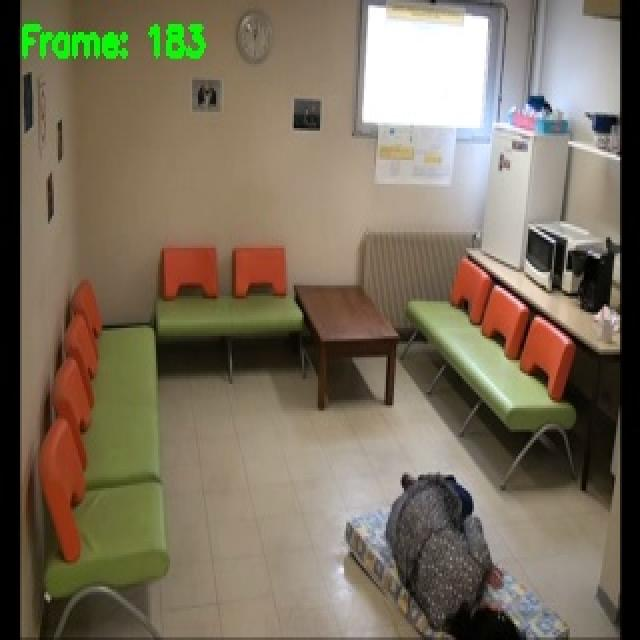Fall-Detected: (387, 468, 522, 640)
